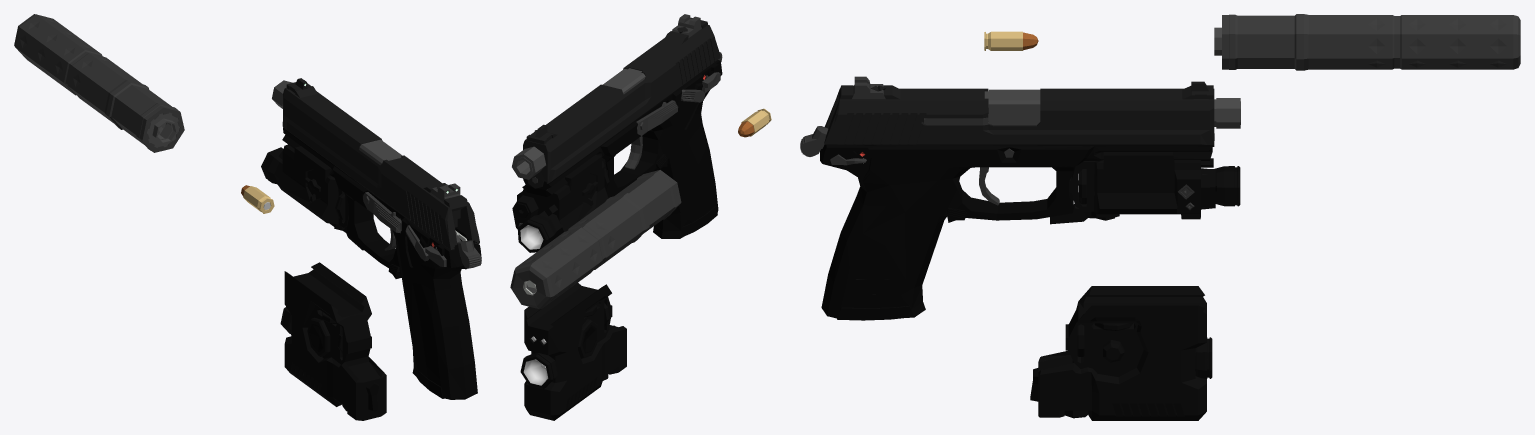
3 views of the same model, side by side, from view 1: azimuth 30°, elevation 25°; view 2: azimuth 150°, elevation 25°; view 3: azimuth 270°, elevation 25° (orthographic). The views are drawn at different scales.
Visible parts, largest first — view 1: frame_15, LAM_old_16, slide_5, suppressor_body_3, LAM_new_19, suppressor_base_2, slide_lock_release_4, barrel_18, round_7, hammer_13; view 2: LAM_old_16, slide_5, suppressor_body_3, frame_15, LAM_new_19, barrel_18, slide_lock_release_4, magazine_11, round_7, thread_protector_1, trigger_0, hammer_decock_12 (+1 smaller); view 3: frame_15, LAM_old_16, slide_5, suppressor_body_3, LAM_new_19, barrel_18, magazine_11, round_7, thread_protector_1.
Boxes of the visible parts, x1,y1,x2,y2 form: frame_15: (282, 127, 481, 399); LAM_old_16: (280, 262, 386, 420); slide_5: (282, 78, 479, 250); suppressor_body_3: (14, 14, 184, 152); LAM_new_19: (261, 144, 363, 250); suppressor_base_2: (147, 112, 179, 147); slide_lock_release_4: (363, 192, 401, 233); barrel_18: (359, 139, 402, 164); round_7: (241, 185, 274, 213); hammer_13: (455, 231, 481, 268); LAM_old_16: (520, 283, 626, 420); slide_5: (523, 14, 720, 188); suppressor_body_3: (510, 170, 681, 308); frame_15: (522, 60, 722, 231); LAM_new_19: (512, 155, 609, 252); barrel_18: (514, 68, 645, 176); slide_lock_release_4: (636, 100, 678, 135); magazine_11: (653, 206, 717, 238); round_7: (738, 108, 771, 137); thread_protector_1: (512, 146, 545, 179); trigger_0: (625, 136, 642, 169); hammer_decock_12: (681, 89, 705, 102); frame_15: (820, 128, 1212, 318); LAM_old_16: (1030, 286, 1212, 420); slide_5: (824, 76, 1214, 146); suppressor_body_3: (1222, 14, 1520, 70); LAM_new_19: (1050, 152, 1240, 224); barrel_18: (984, 89, 1240, 126); magazine_11: (837, 302, 925, 320); round_7: (984, 31, 1038, 50); thread_protector_1: (1216, 98, 1240, 128).
Bounding box in the file's own units: 0.1359 × 0.217 × 0.4256.
16 materials, 16 textured.
